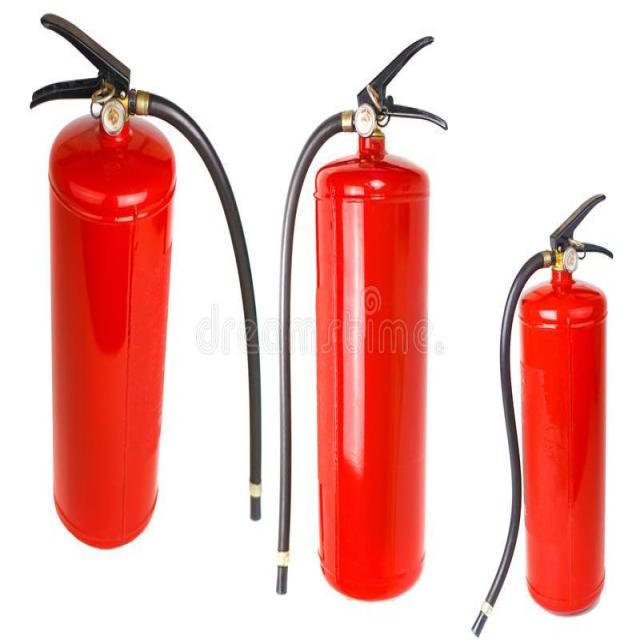fire_extinguisher: (26, 9, 264, 554), (270, 29, 452, 606), (466, 186, 618, 639)
